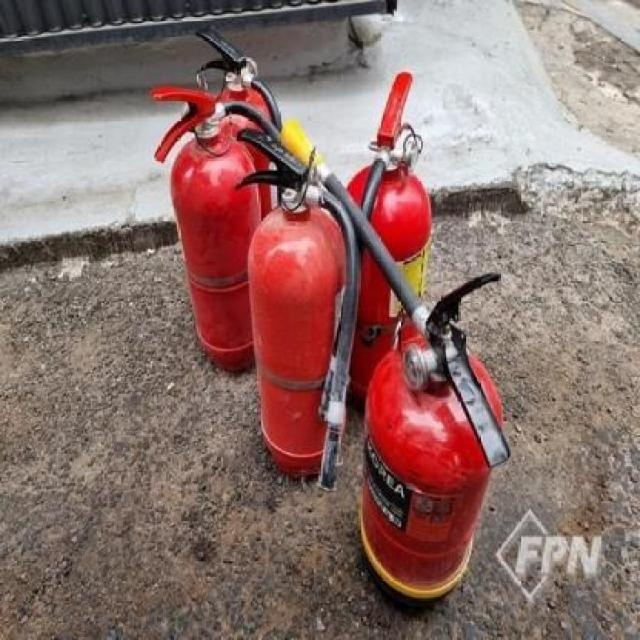fire extinguisher: (281, 120, 510, 602), (234, 126, 358, 489), (150, 87, 282, 371), (345, 72, 432, 401), (194, 27, 283, 221)
